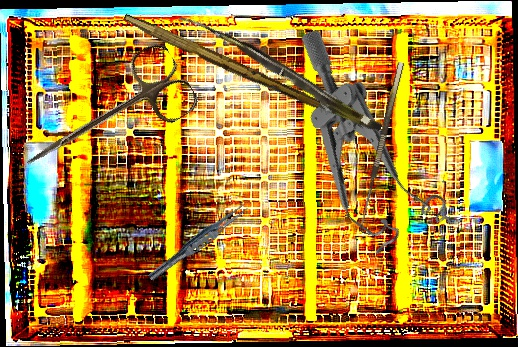Hook Surgical: (356, 61, 413, 236)
Iris Scissors: (8, 38, 203, 200)
Scalpel Handle: (120, 12, 323, 111)
Speculum: (236, 26, 471, 273)
Tissue Forceps: (168, 3, 383, 158), (145, 198, 252, 286)
